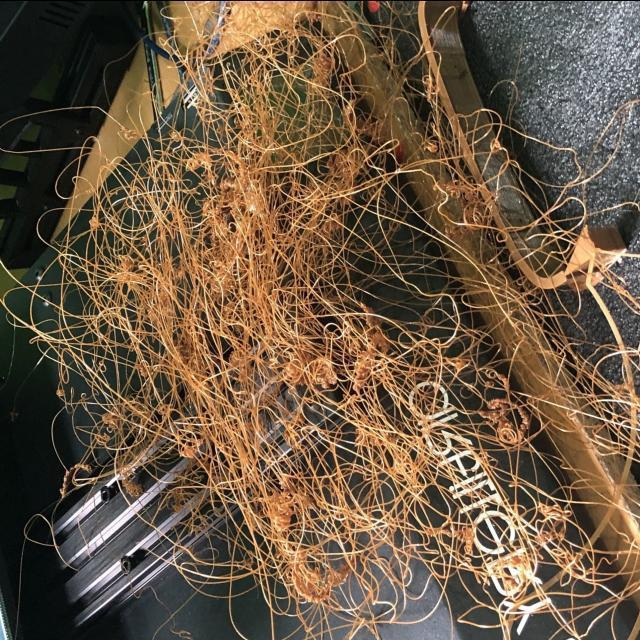spaghetti: (36, 199, 223, 406), (240, 297, 381, 481), (225, 152, 365, 294), (83, 389, 237, 496), (286, 491, 396, 629), (200, 40, 336, 144), (460, 484, 578, 601), (353, 125, 465, 247), (382, 365, 501, 473), (527, 340, 639, 451), (90, 140, 223, 228), (184, 491, 288, 597), (471, 179, 566, 295)
